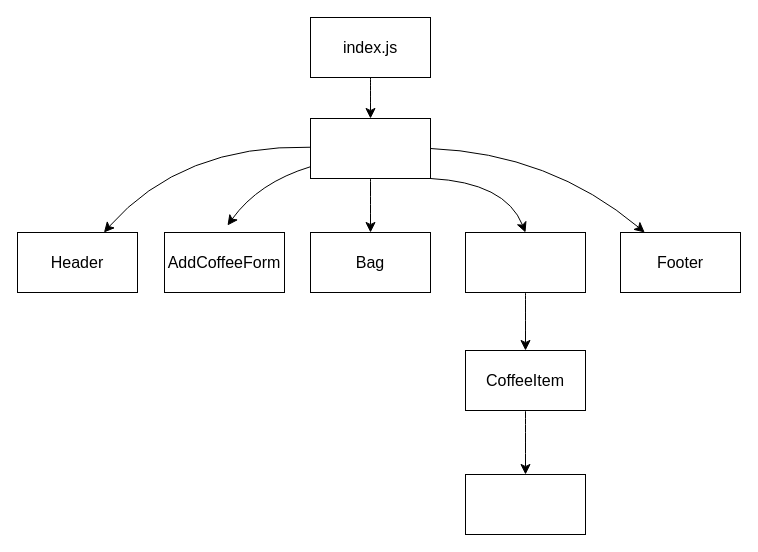
Some shapes in this 758 by 552 pixel diagram are drawn without their labels. The shapes that lost their labels are listed below. From the top down, each one's centre as x and y in pixels, then its label:
the point at 370,148: App.js
the point at 525,262: CoffeeList
the point at 525,504: CoffeeModal
